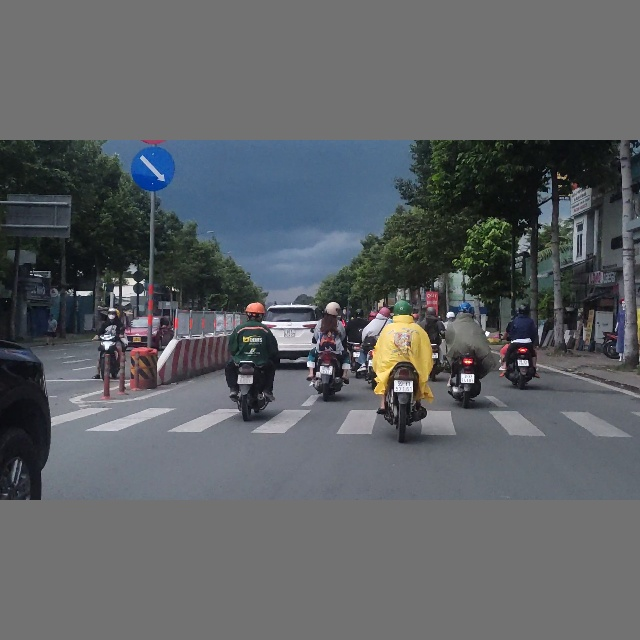R.302a: (131, 145, 175, 191)
